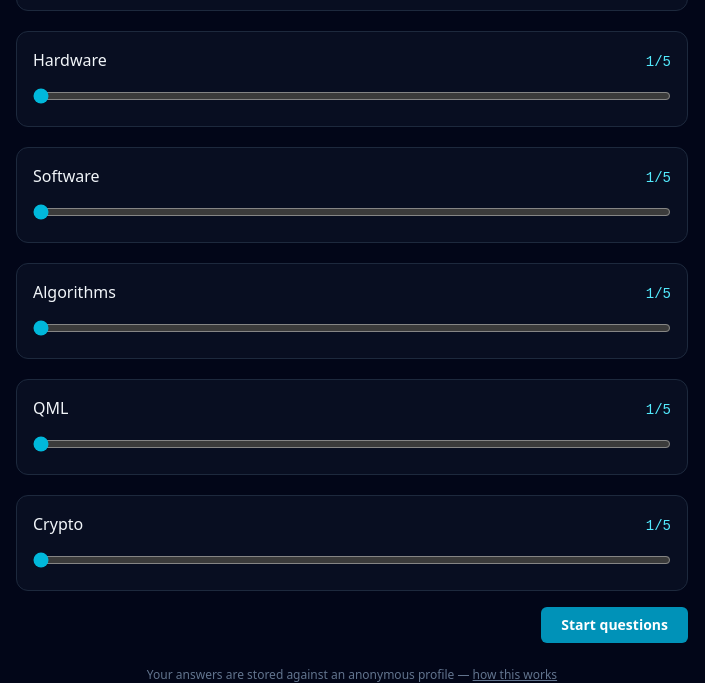
Test: DiagnosticPage › renders interest sliders first, then moves to questions
The width and height of the screenshot is (705, 683).
(page scrolled)
Step 1. Click the button "Start questions" → click(615, 625), box [541,607,688,643]
(page scrolled)
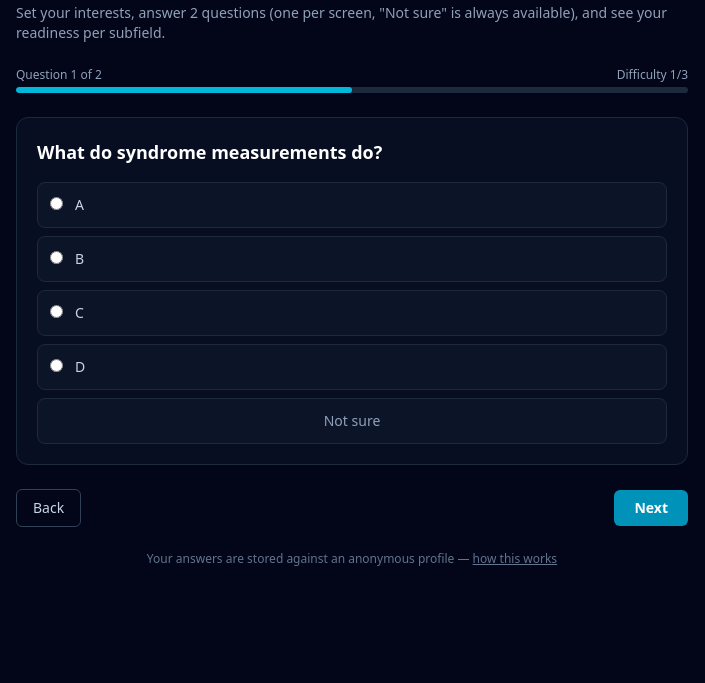
Check: the text "Question 1 of 2" is shown, box [16,67,102,83]
Check: the text "What do syndrome measurements do?" is shown, box [37,140,382,164]
